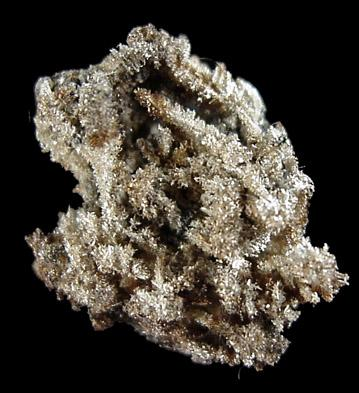silver: (27, 24, 349, 369)
